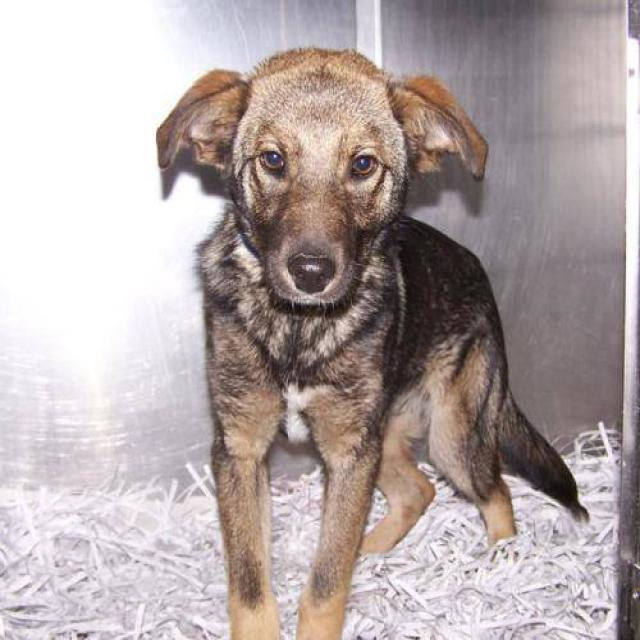dog: (154, 44, 590, 638)
